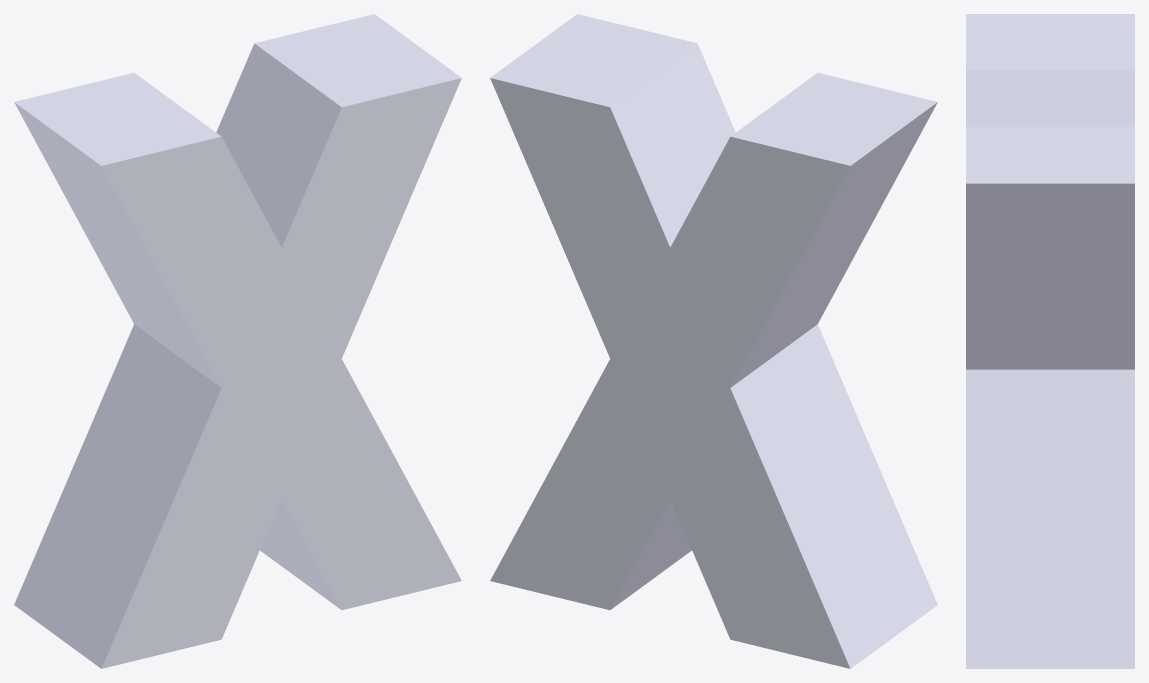
Rendered from X_DeltaBlock_Grey.glb.
3 renders of one model, left to right at view 1: azimuth 30°, elevation 25°; view 2: azimuth 150°, elevation 25°; view 3: azimuth 270°, elevation 25°, orthographic. The views are drawn at different scales.
Visible parts, largest first — view 1: x_DeltaBlock_Grey; view 2: x_DeltaBlock_Grey; view 3: x_DeltaBlock_Grey.
Part boxes in pixels (box(x1,y1,x2,y2)): x_DeltaBlock_Grey: box(14, 14, 461, 668); x_DeltaBlock_Grey: box(490, 14, 937, 668); x_DeltaBlock_Grey: box(966, 14, 1134, 668).
Size of what is drawn, in the model's own units: 0.1071 by 0.1429 by 0.045.
Materials: 2 (2 with a texture image).
